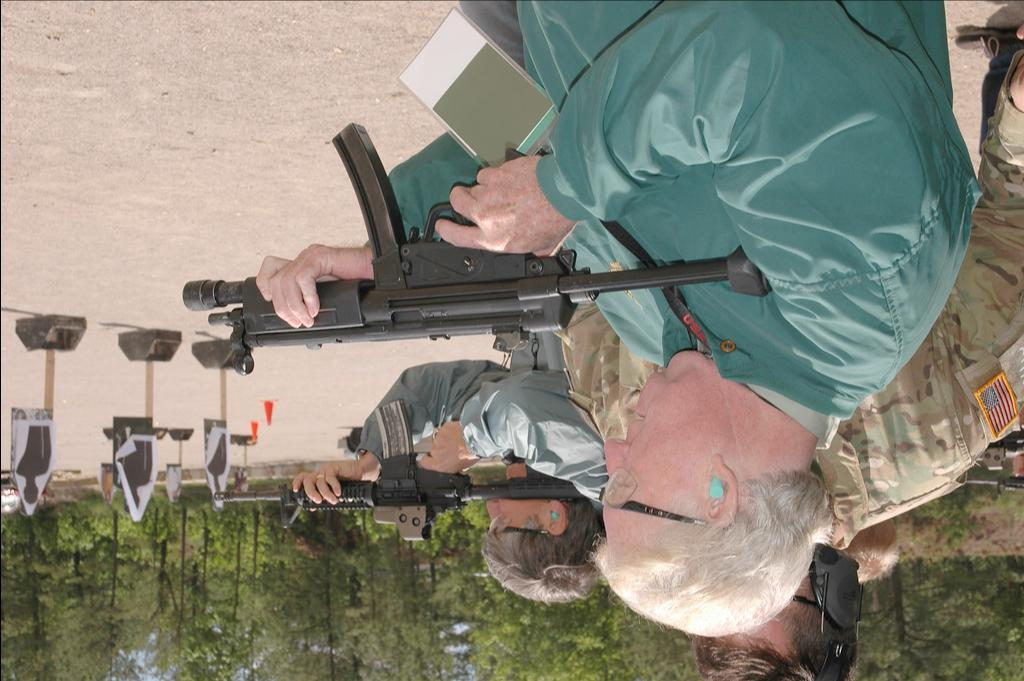gun: (182, 118, 776, 372), (207, 396, 587, 543)
